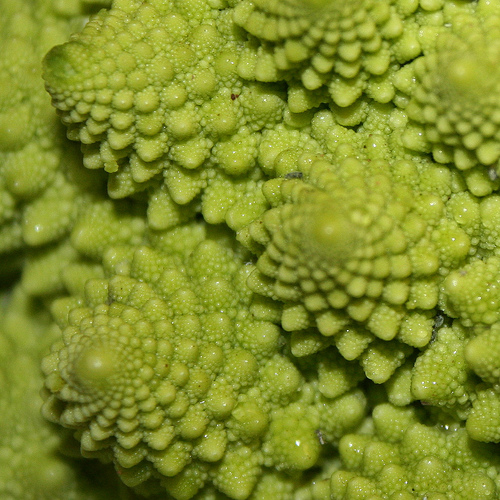cauliflower: (0, 0, 498, 498)
